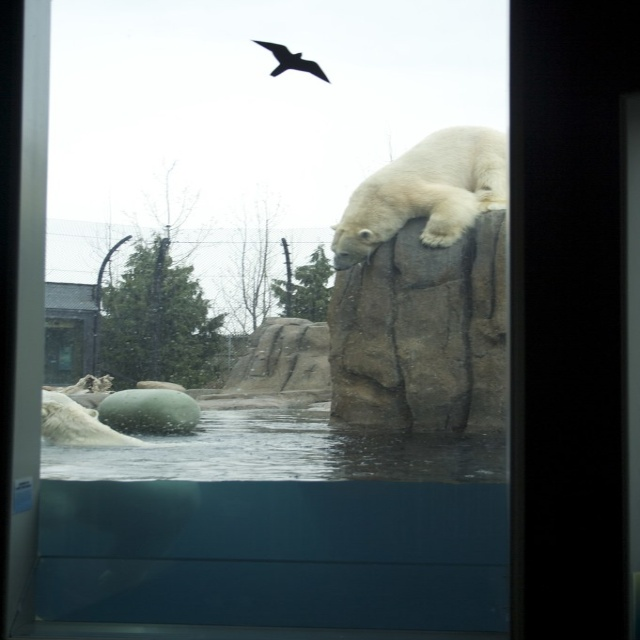Polar bear: (330, 123, 523, 271), (39, 392, 151, 451)
